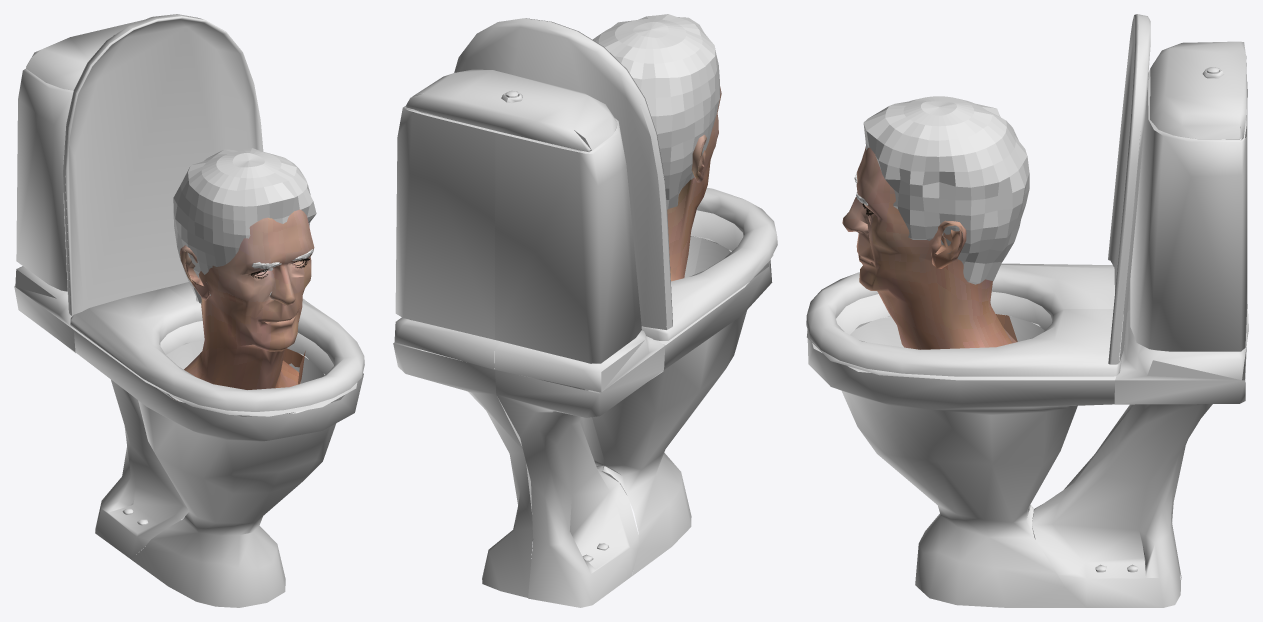
The model's file is skibidi_0 1.fbx.
The picture shows the model from 3 angles, left to right: view 1: azimuth 30°, elevation 25°; view 2: azimuth 150°, elevation 25°; view 3: azimuth 270°, elevation 25°; orthographic projection. The views are drawn at different scales.
Parts seen in each view (by area): view 1: Object_5, Object_2, Object_3, Sphere; view 2: Object_5, Object_2, Sphere, Object_3; view 3: Object_5, Object_2, Sphere, Object_3.
Part boxes in pixels (left/top/right/bottom): Object_5: left=14, top=20, right=363, bottom=607; Object_2: left=63, top=14, right=364, bottom=525; Object_3: left=172, top=209, right=314, bottom=400; Sphere: left=173, top=148, right=316, bottom=303; Object_5: left=393, top=69, right=773, bottom=607; Object_2: left=454, top=18, right=777, bottom=562; Sphere: left=592, top=14, right=720, bottom=209; Object_3: left=667, top=86, right=721, bottom=281; Object_5: left=807, top=41, right=1248, bottom=607; Object_2: left=806, top=14, right=1223, bottom=572; Sphere: left=863, top=96, right=1029, bottom=284; Object_3: left=842, top=146, right=1017, bottom=349.
Bounding box in the file's own units: 692 × 1706 × 1232.
